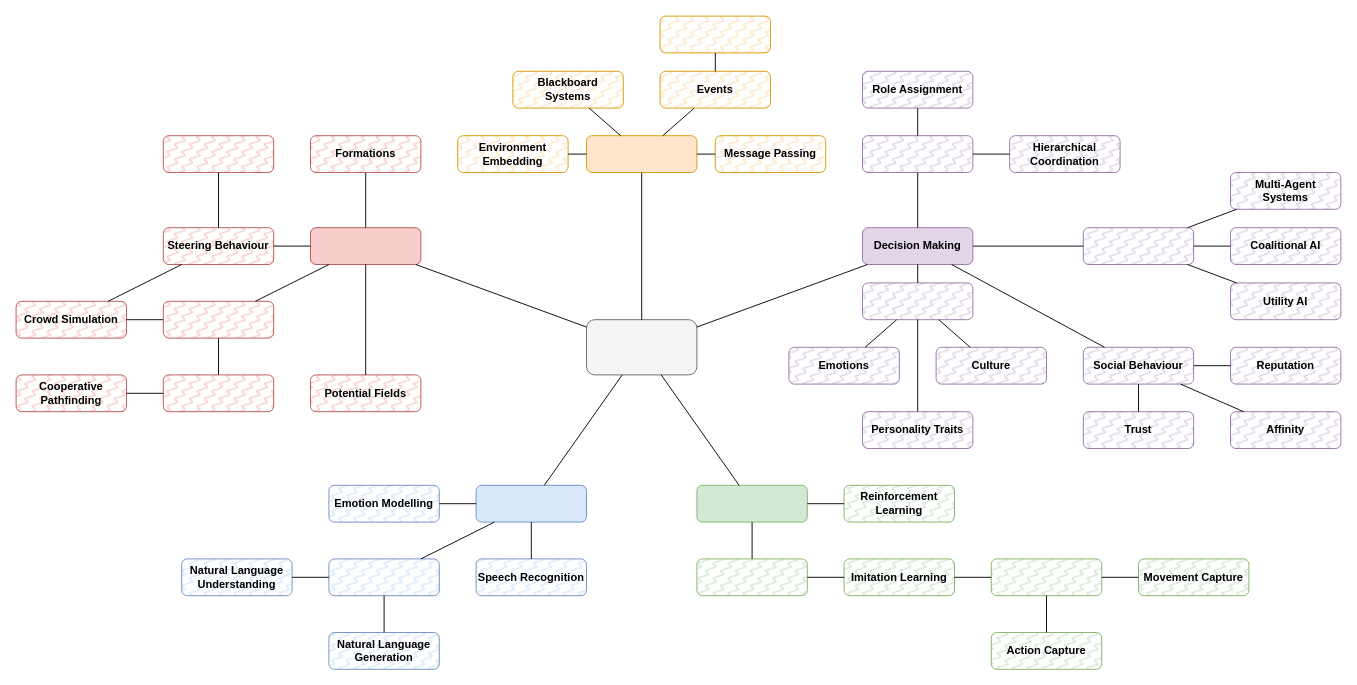
The diagram is 1357 pixels wide and 685 high, and some of its shapes have lost their labels. Here are the shapes that lost their labels. From the top down, the box of each, then its label:
(659, 15, 770, 53): Sensors
(162, 135, 274, 172): Flocking
(586, 135, 697, 172): Communication
(862, 135, 973, 172): Unified Strategies
(310, 227, 421, 264): Movement
(1082, 227, 1194, 264): Distributed Strategies
(162, 300, 274, 338): Pathfinding
(862, 282, 973, 320): Self-Motivated Behaviour
(586, 319, 697, 375): Agent Behaviour
(162, 374, 274, 412): Multi-Agent Pathfinding
(475, 484, 586, 522): Player Communication
(696, 484, 807, 522): Learning
(328, 558, 439, 596): Natural Language Processing
(696, 558, 807, 596): Supervised Learning
(990, 558, 1102, 596): Player Modelling
